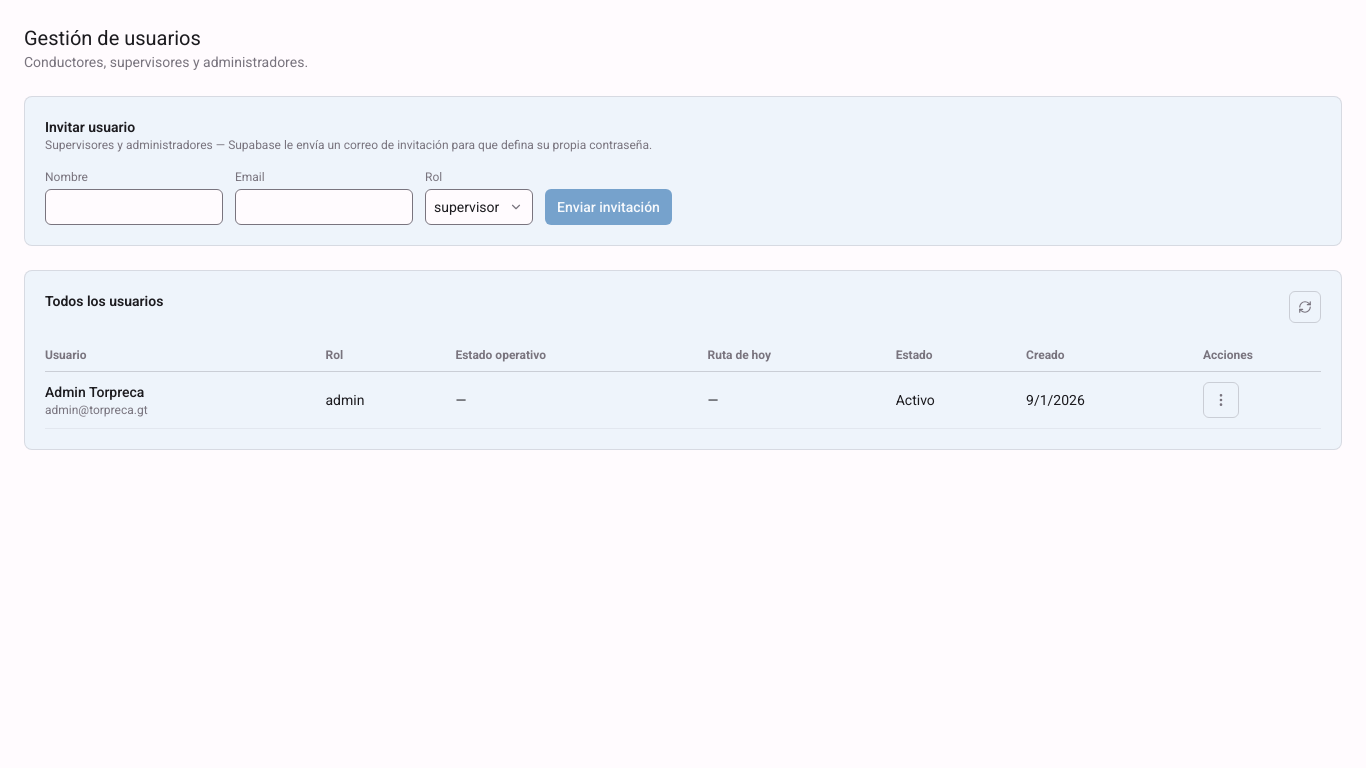
UsersPage › lists users with a Desactivar action in the actions menu
expect the text "Admin Torpreca" is shown: met, box [45,382,144,402]
Click the button named "Acciones para Admin Torpreca": (1221, 400) [1203,382,1239,418]
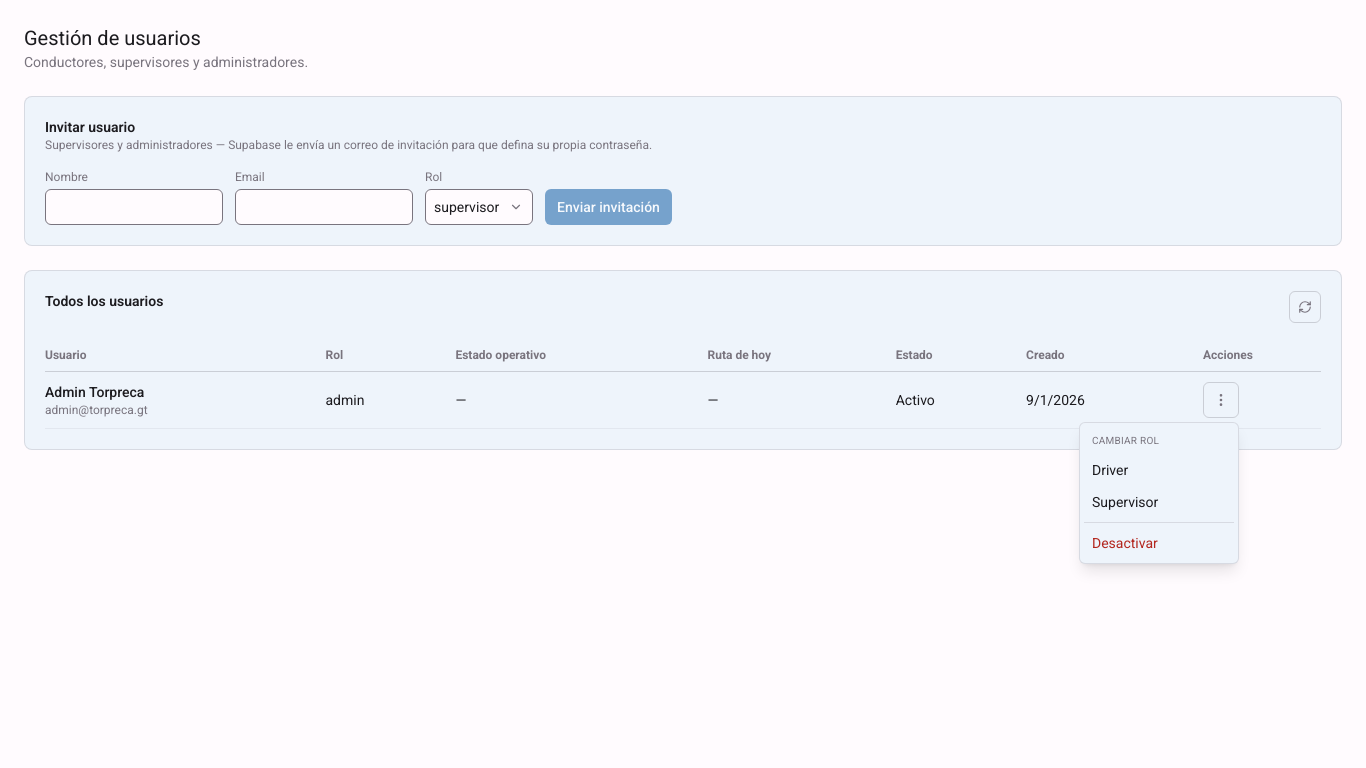
expect the menu item "Desactivar" is shown: met, box [1092,535,1158,551]
